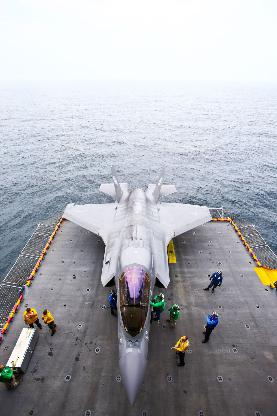F22: (62, 162, 211, 408)
